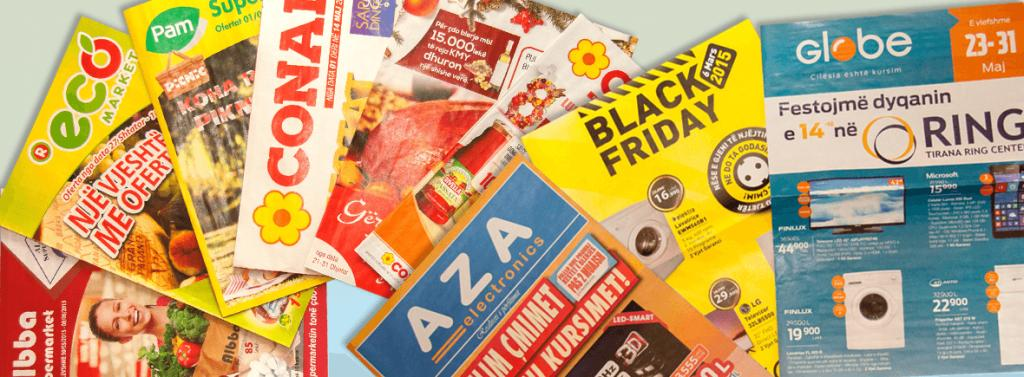paper: (1, 0, 1024, 376)
